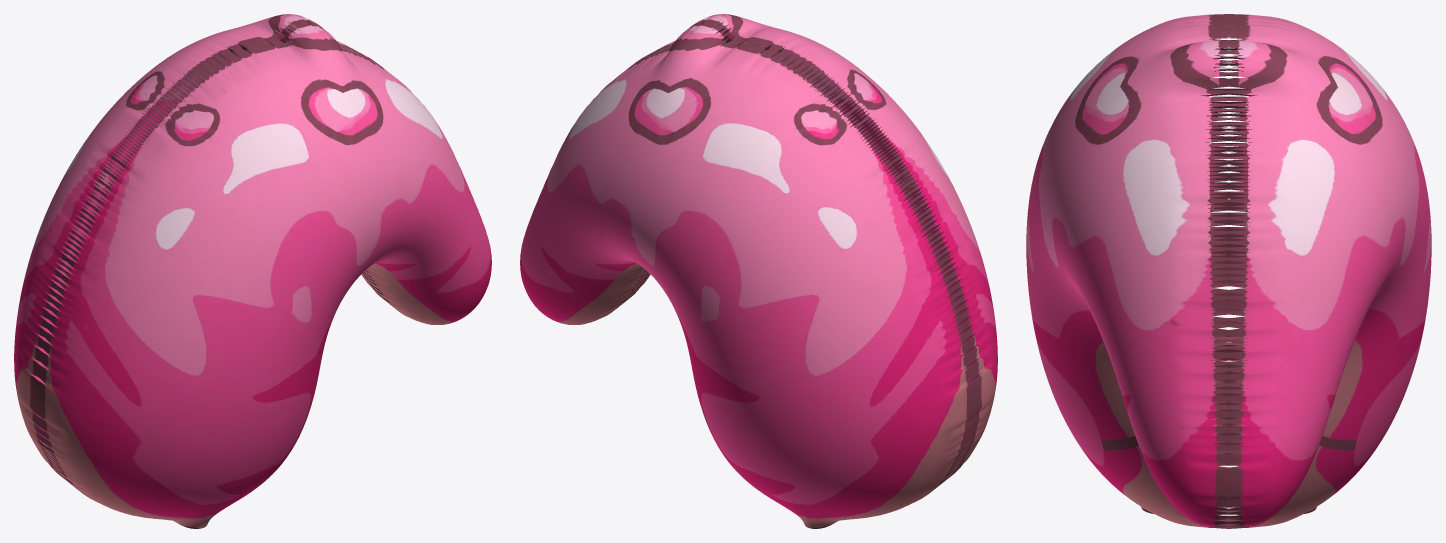
Rendered from pink_curled_shoot.glb.
3 renders of one model, left to right at view 1: azimuth 30°, elevation 25°; view 2: azimuth 150°, elevation 25°; view 3: azimuth 270°, elevation 25°, orthographic. The views are drawn at different scales.
Visible parts, largest first — view 1: pink_curled_shoot; view 2: pink_curled_shoot; view 3: pink_curled_shoot.
Boxes of the visible parts, x1,y1,x2,y2 form: pink_curled_shoot: (14, 14, 491, 528); pink_curled_shoot: (520, 14, 997, 528); pink_curled_shoot: (1026, 14, 1431, 528).
Bounding box in the file's own units: 0.9889 × 0.9534 × 0.6431.
Materials: 1 (1 with a texture image).
